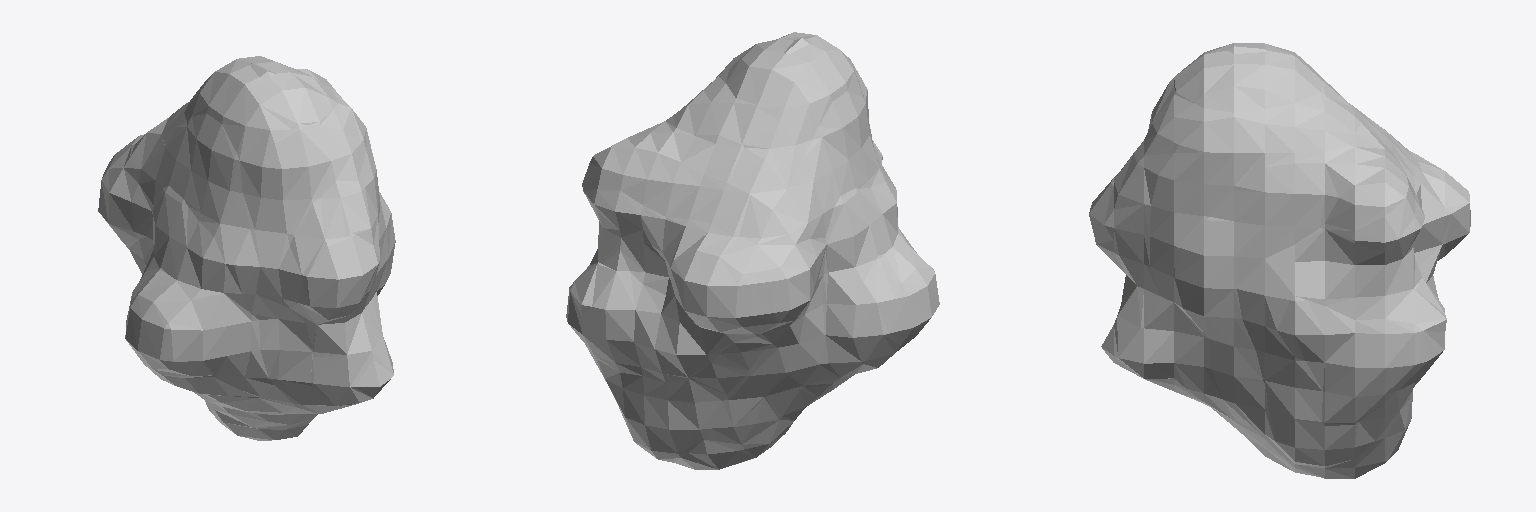
The model's file is 1t5b_cms.obj.
3 views of the same model, side by side, from view 1: azimuth 30°, elevation 25°; view 2: azimuth 150°, elevation 25°; view 3: azimuth 270°, elevation 25° (orthographic).
Size of the model in its own units: 60.09 by 83.05 by 70.5.